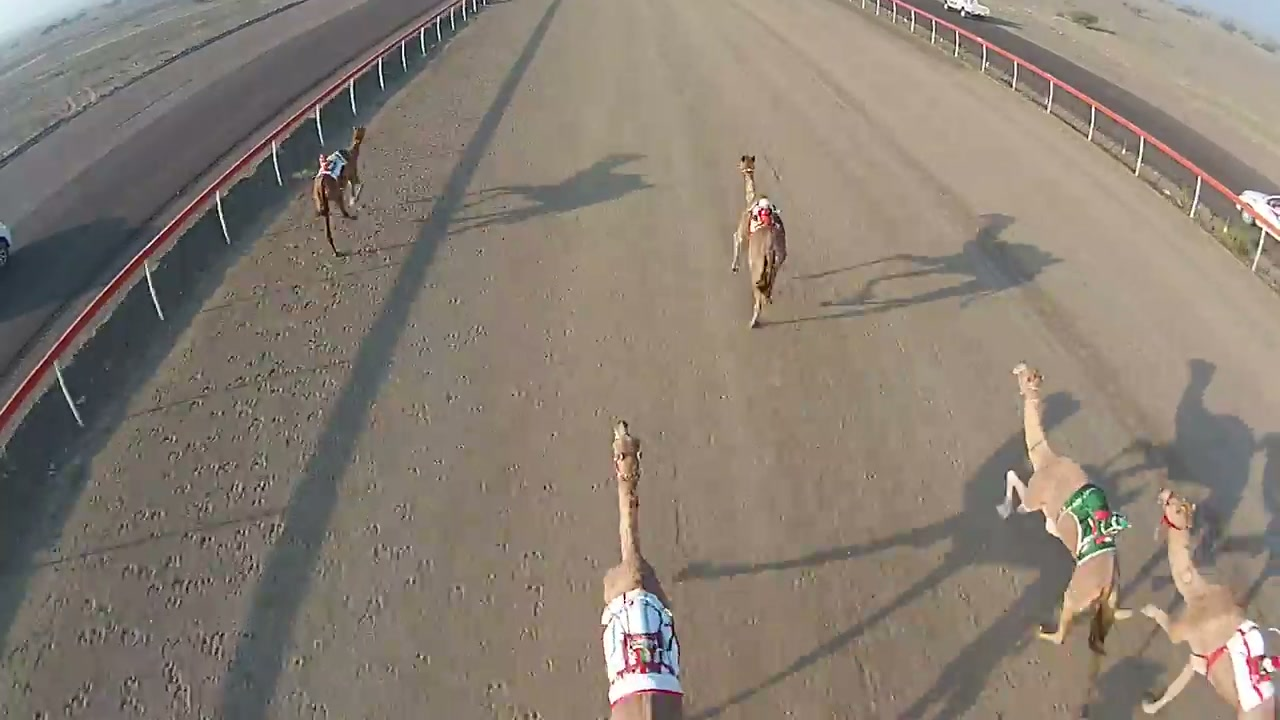animal_footprint: (75, 273, 329, 719)
